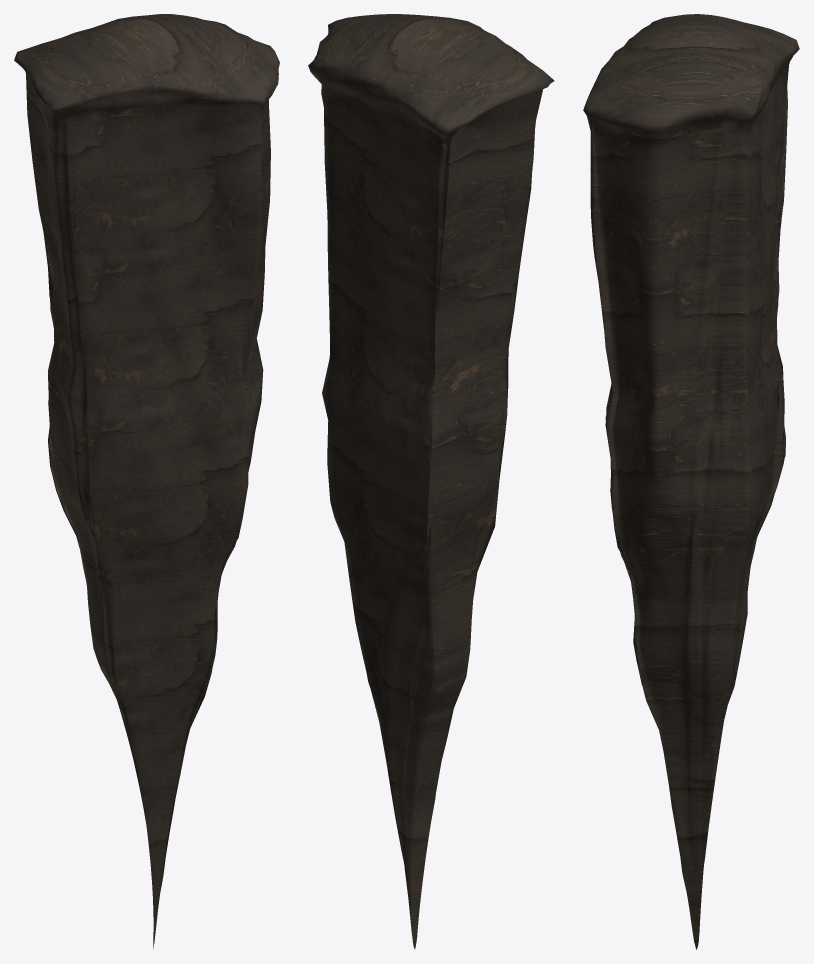
The model's file is cliff_fang_b_lod0.gltf.
3 renders of one model, left to right at view 1: azimuth 30°, elevation 25°; view 2: azimuth 150°, elevation 25°; view 3: azimuth 270°, elevation 25°, orthographic.
Parts seen in each view (by area): view 1: cliff_fang_b_LOD0; view 2: cliff_fang_b_LOD0; view 3: cliff_fang_b_LOD0.
Boxes of the visible parts, left/top/right/bottom form: cliff_fang_b_LOD0: left=14, top=14, right=279, bottom=948; cliff_fang_b_LOD0: left=308, top=14, right=554, bottom=949; cliff_fang_b_LOD0: left=583, top=14, right=799, bottom=949.
Size of the model in its own units: 12.2 by 48 by 10.37.
1 material, 1 textured.
